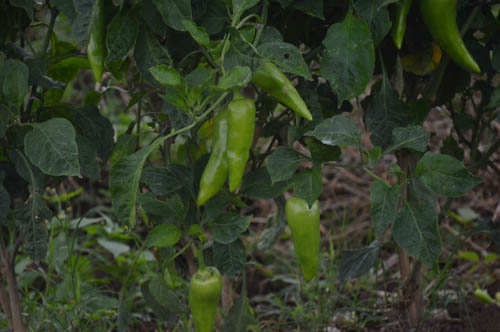ChiliPepper: (424, 3, 480, 72), (256, 63, 315, 119), (225, 97, 256, 197), (201, 108, 233, 204), (285, 197, 321, 281), (81, 7, 110, 82), (187, 272, 220, 328), (384, 7, 408, 48)
